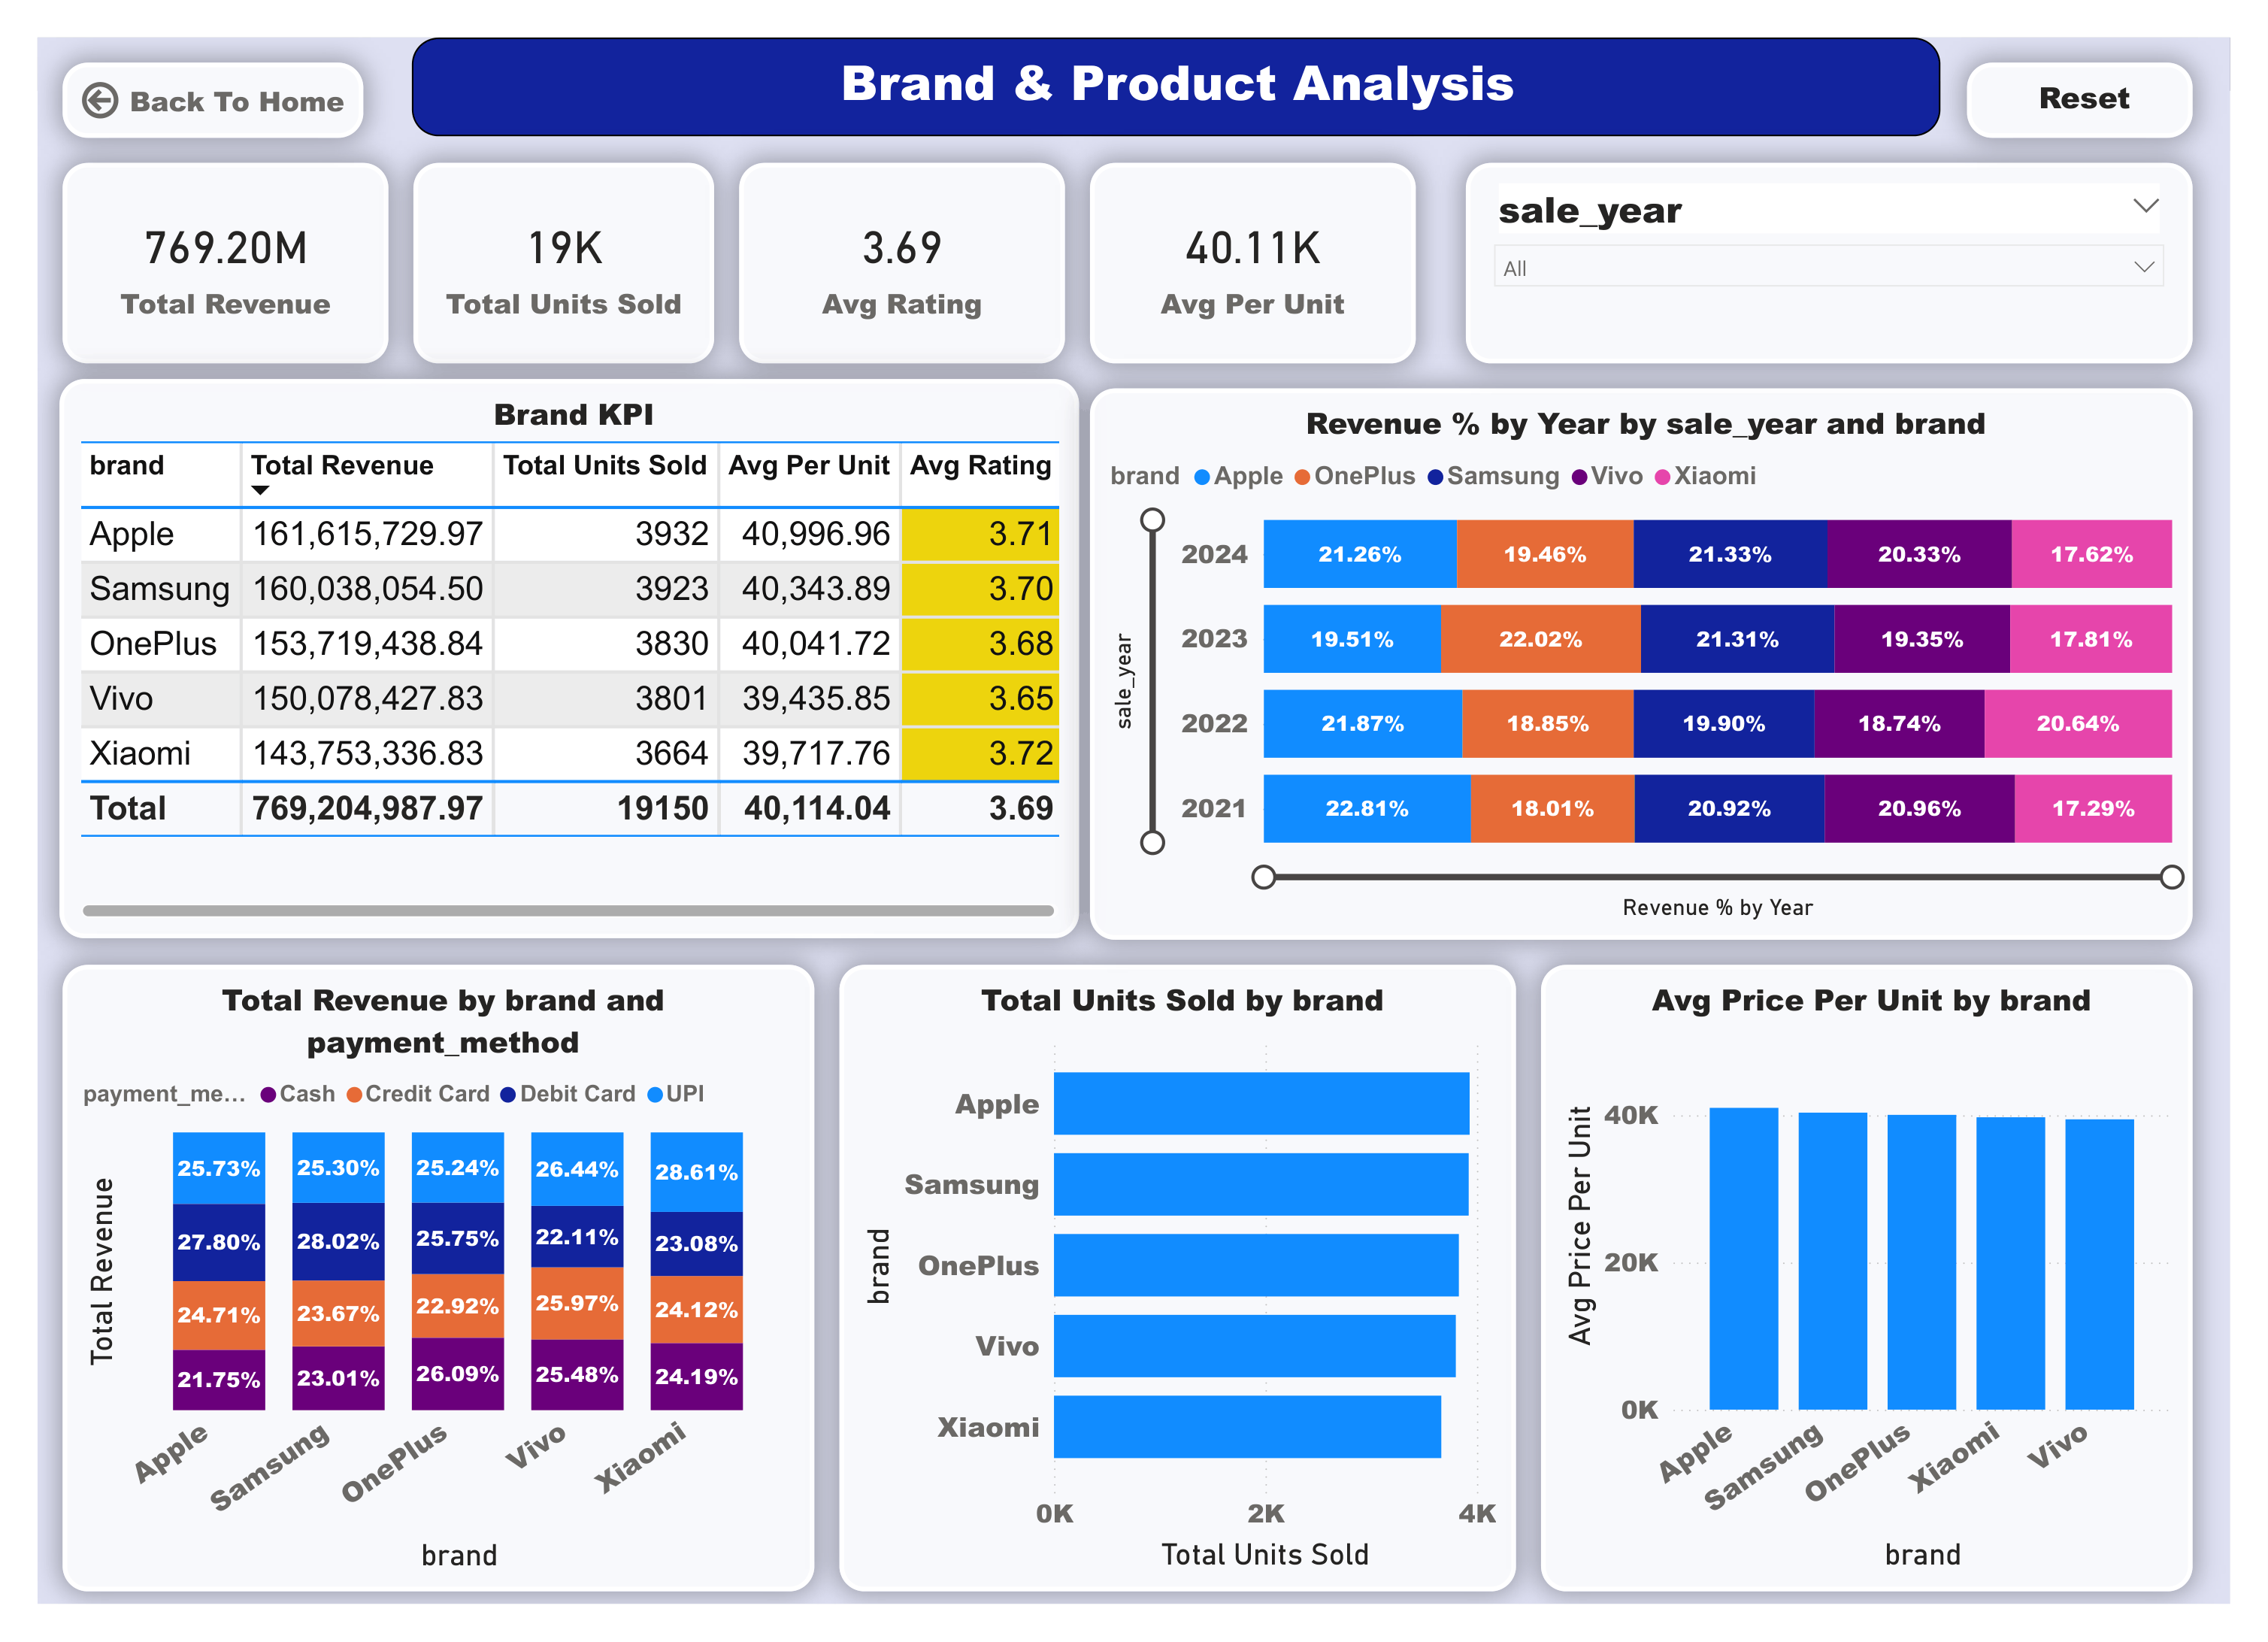

The dashboard page shown, as its layout file describes it:
{"tool":"powerbi","page":{"name":"Brand & Product Analysis","canvas":[1400,1000],"ordinal":1},"visuals":[{"type":"textbox","title":"Brand & Product Analysis","box":[239.1,0,976.1,63],"z":0},{"type":"card","fields":{"Values":["mobile_sales.Total Revenue"]},"box":[16,80,208,128],"z":1000},{"type":"card","fields":{"Values":["mobile_sales.Total Units Sold"]},"box":[240,80,192,128],"z":2000},{"type":"card","fields":{"Values":["mobile_sales.Avg Rating"]},"box":[448,80,208,128],"z":3000},{"type":"card","fields":{"Values":["mobile_sales.Avg Price Per Unit"]},"box":[672,80,208,128],"z":4000},{"type":"tableEx","title":"Brand KPI ","fields":{"Values":["mobile_sales.brand","mobile_sales.Total Revenue","mobile_sales.Total Units Sold","mobile_sales.Avg Price Per Unit","mobile_sales.Avg Rating"]},"box":[13.7,217.6,651,356.9],"z":5000},{"type":"hundredPercentStackedColumnChart","fields":{"Series":["mobile_sales.payment_method"],"Category":["mobile_sales.brand"],"Y":["mobile_sales.Total Revenue"]},"box":[16,592,480,400],"z":6000},{"type":"barChart","fields":{"Category":["mobile_sales.brand"],"Y":["mobile_sales.Total Units Sold"]},"box":[512,592,432,400],"z":7000},{"type":"columnChart","fields":{"Category":["mobile_sales.brand"],"Y":["mobile_sales.Avg Price Per Unit"]},"box":[960,592,416,400],"z":8000},{"type":"hundredPercentStackedBarChart","fields":{"Series":["mobile_sales.brand"],"Y":["mobile_sales.Revenue % by Year"],"Category":["mobile_sales.sale_year"]},"box":[672,224,704,352],"z":9000},{"type":"slicer","fields":{"Values":["mobile_sales.sale_year"]},"box":[912,80,464,128],"z":10000},{"type":"actionButton","title":"Reset","box":[1232,16,144,48],"z":11000},{"type":"actionButton","box":[16,16,192,48],"z":13000}]}

Visuals, with their boxes on the page's 1400x1000 design canvas (x1, y1, x2, y2). These are canvas units, not pixel positions in the 2268x1642 screenshot, which may show the page scaled, cropped or inside an application window:
"Brand & Product Analysis" textbox: left=239, top=0, right=1215, bottom=63
card - mobile_sales.Total Revenue: left=16, top=80, right=224, bottom=208
card - mobile_sales.Total Units Sold: left=240, top=80, right=432, bottom=208
card - mobile_sales.Avg Rating: left=448, top=80, right=656, bottom=208
card - mobile_sales.Avg Price Per Unit: left=672, top=80, right=880, bottom=208
"Brand KPI " tableEx: left=14, top=218, right=665, bottom=574
hundredPercentStackedColumnChart - mobile_sales.payment_method x mobile_sales.brand: left=16, top=592, right=496, bottom=992
barChart - mobile_sales.brand x mobile_sales.Total Units Sold: left=512, top=592, right=944, bottom=992
columnChart - mobile_sales.brand x mobile_sales.Avg Price Per Unit: left=960, top=592, right=1376, bottom=992
hundredPercentStackedBarChart - mobile_sales.brand x mobile_sales.Revenue % by Year: left=672, top=224, right=1376, bottom=576
slicer - mobile_sales.sale_year: left=912, top=80, right=1376, bottom=208
"Reset" actionButton: left=1232, top=16, right=1376, bottom=64
actionButton: left=16, top=16, right=208, bottom=64
